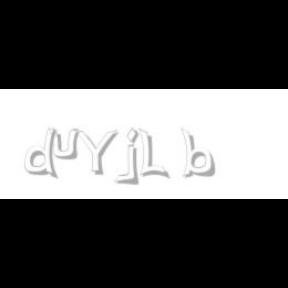L: (139, 128, 167, 180)
Y: (72, 128, 118, 176)
b: (180, 128, 218, 178)
d: (24, 128, 62, 180)
j: (124, 128, 153, 186)
u: (48, 128, 82, 160)
